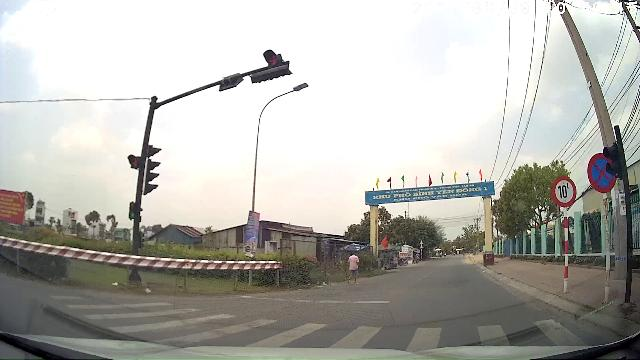130-cam-dung-va-do-xe: (588, 153, 616, 193)
